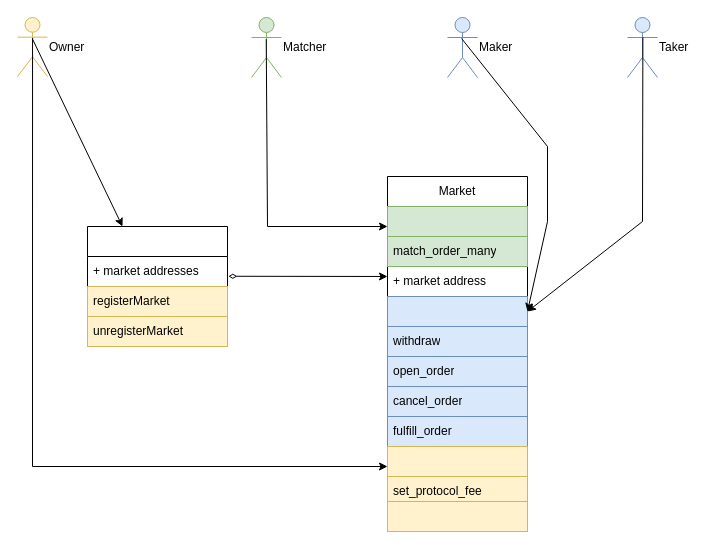
Some shapes in this 706 by 549 pixel diagram are drawn without their labels. Each missing label, with the box of its shape:
deposit: (386, 296, 528, 326)
MarketRegistry: (86, 226, 228, 346)
match_order_pair: (386, 206, 528, 236)
set_epoch: (386, 500, 528, 532)
set_marcher_fee: (386, 446, 528, 476)
